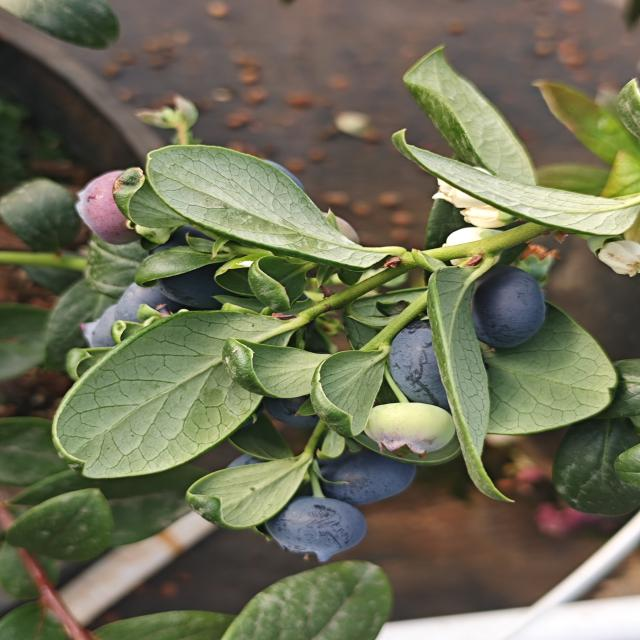ripe: (78, 269, 178, 349), (262, 494, 370, 564), (152, 228, 236, 313), (468, 264, 548, 351), (384, 316, 454, 411), (72, 168, 162, 241), (311, 448, 419, 508), (265, 398, 320, 432), (221, 447, 278, 473)
